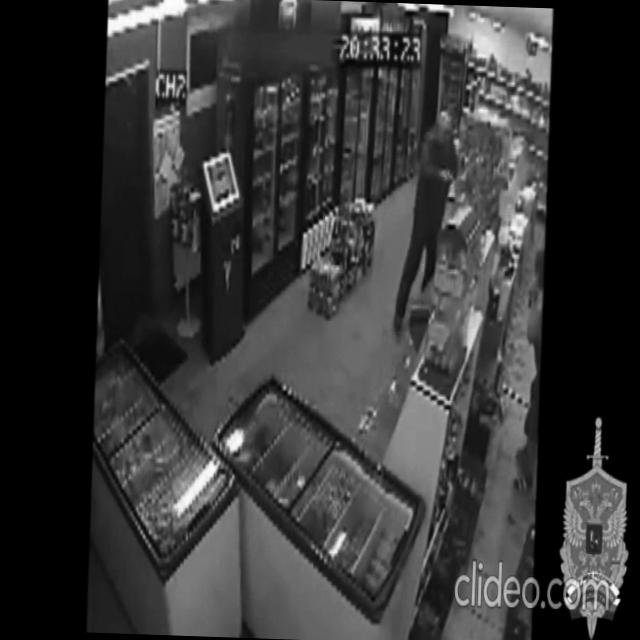gun: (445, 161, 456, 186)
person with a gun: (392, 105, 461, 342)
